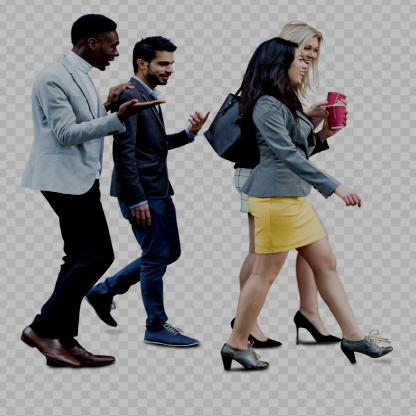jean: (198, 36, 397, 376), (90, 31, 214, 351), (241, 20, 358, 355), (16, 10, 123, 372)
